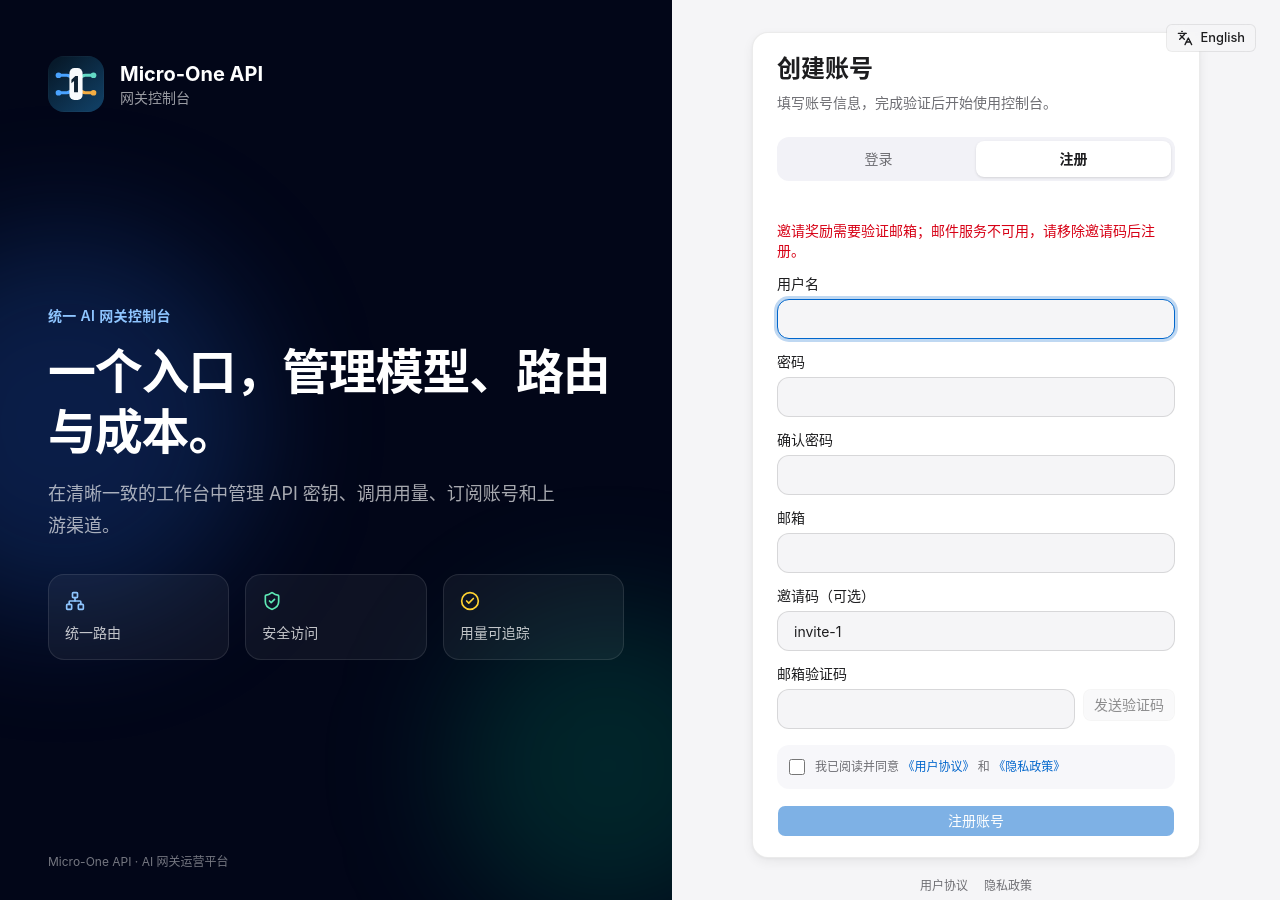
LoginPage › explains unavailable invitation verification and allows registration after removing the invitation
Expected: the message reads "邀请奖励需要验证邮箱；邮件服务不可用，请移除邀请码后注册。", x1=777 y1=222 x2=1155 y2=259
Expected: the button "注册账号" is disabled, x1=777 y1=805 x2=1175 y2=837
Clear the field labelled "邀请码（可选）": (976, 631) x1=777 y1=611 x2=1175 y2=651
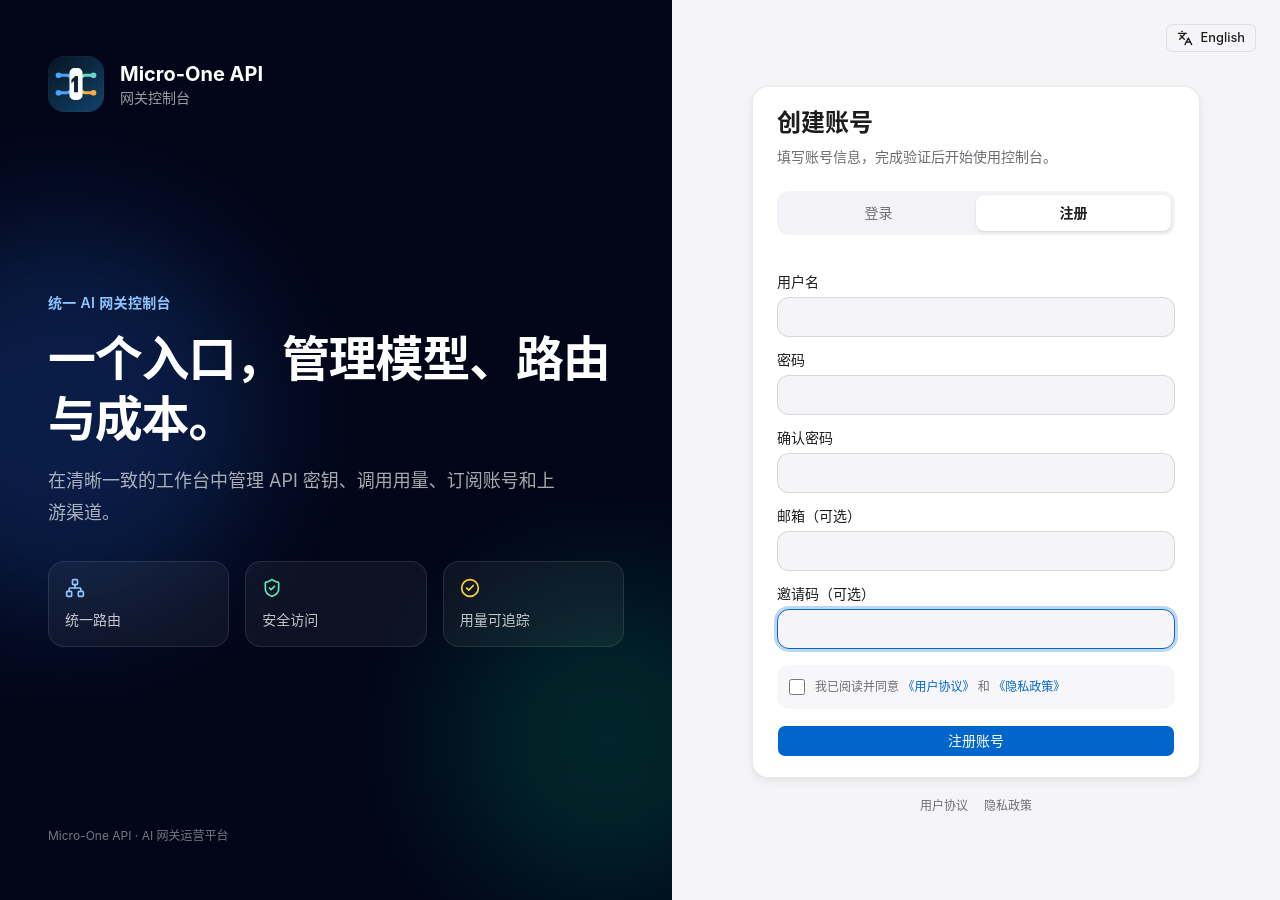
Result: the message "邀请奖励需要验证邮箱；邮件服务不可用，请移除邀请码后注册。" is gone
Result: the button "注册账号" is enabled at x1=777 y1=725 x2=1175 y2=757
